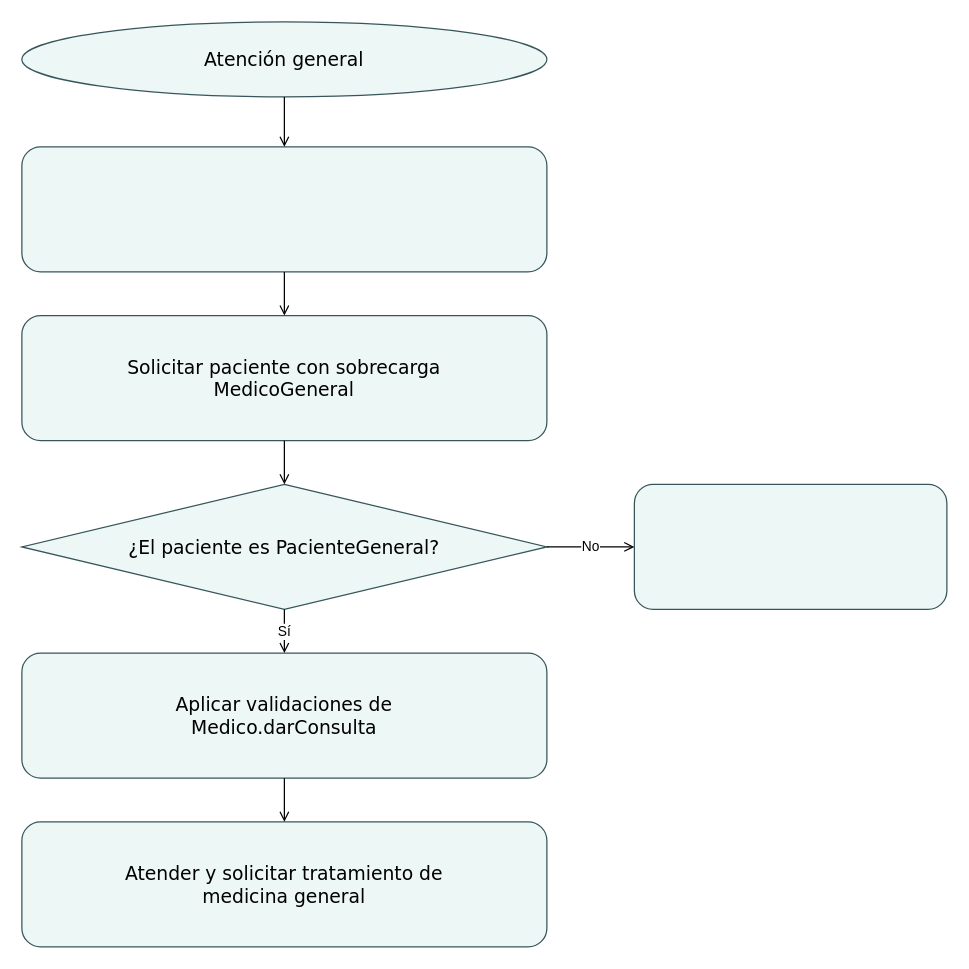
Image size: 969x969. Some labels were removed from this diagram. The centre of each missing label's shape, as x and y in pixels:
"Obtener servicio: Consulta general" belongs at (284,209).
"Rechazar tipo incompatible" belongs at (790,546).
